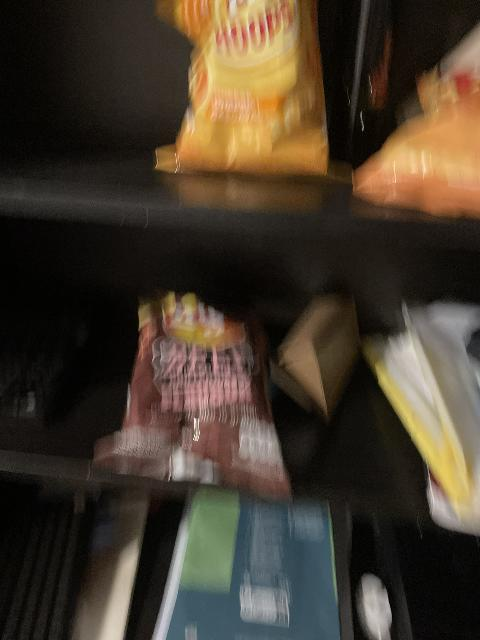Chio Cascaval 125g: (349, 12, 477, 219)
Chio Hula Hoops Cheese 70g: (151, 3, 332, 179)
Lays Beef Grilled Ribs 125g: (93, 293, 295, 502)
